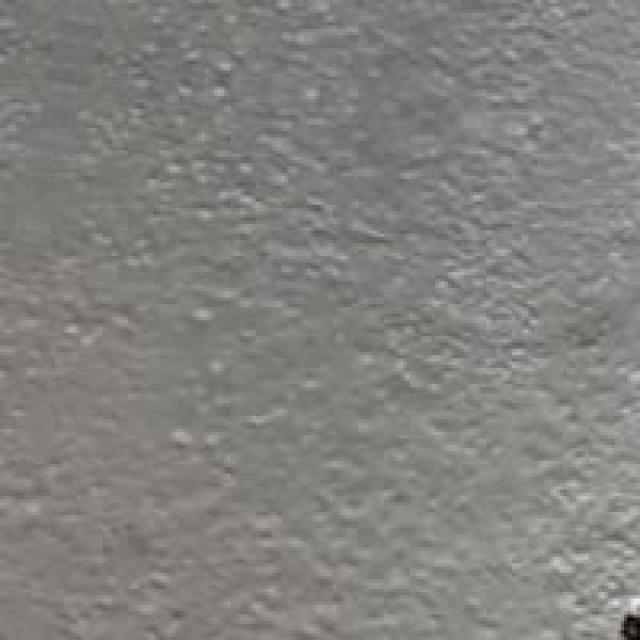crack: (610, 596, 640, 640)
